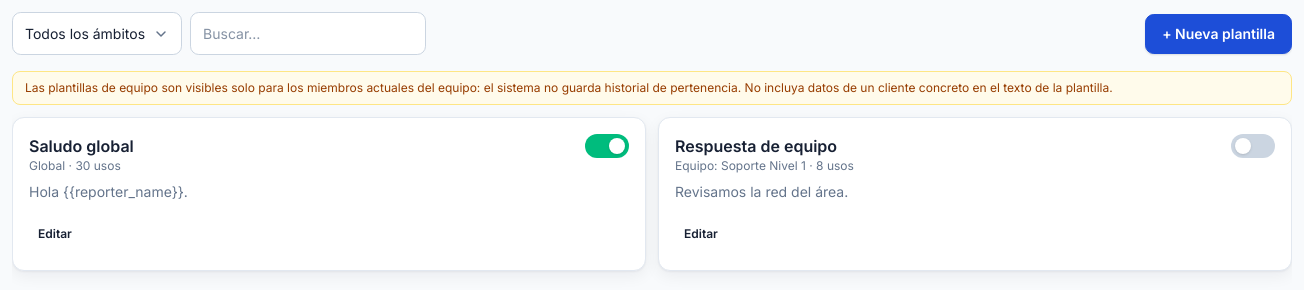
Test: TemplatesAdmin · listado y filtros › el filtro de ámbito vuelve a "Todos" y consulta sin scope
Expected: the text "Saludo global" is shown, [29,134,134,158]
Click the dropdown labelled "Todos los ámbitos" at (97, 34), box [12,12,182,55]
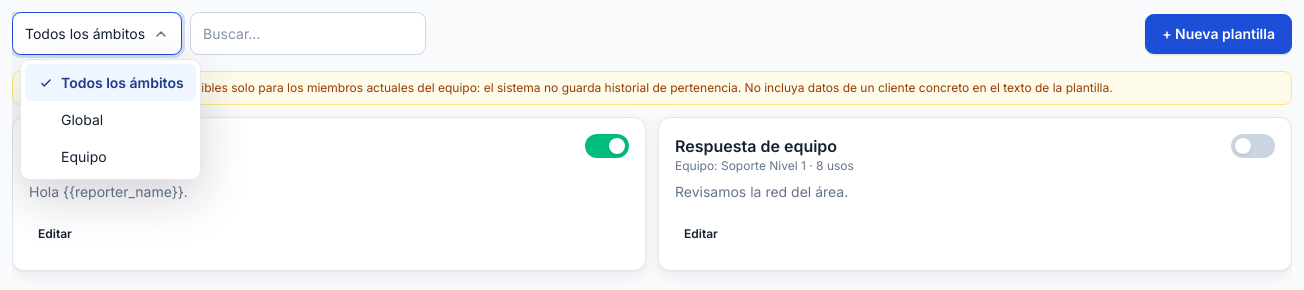
Click the option "Global" at (82, 120), box [61,111,103,128]
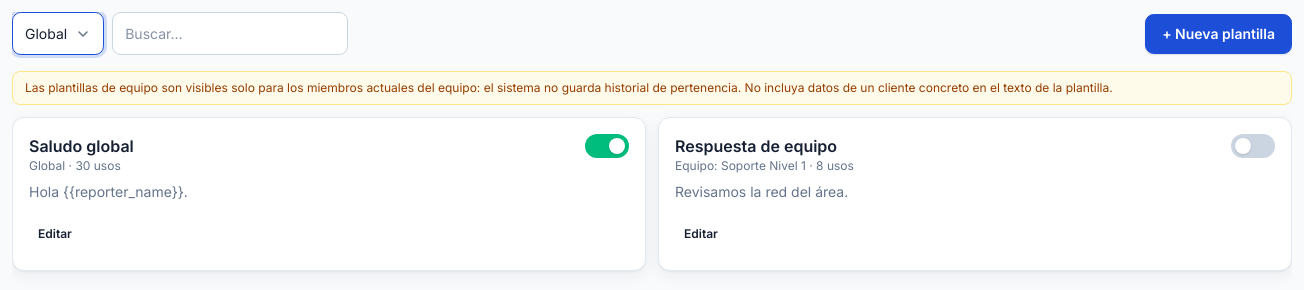
Click the dropdown named "Filtrar por ámbito" at (58, 34), box [12,12,104,55]
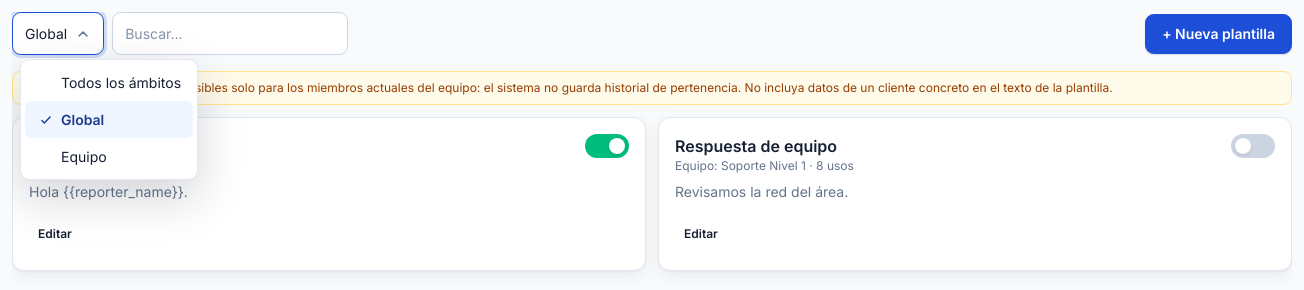
Click the option "Todos los ámbitos" at (121, 82), box [61,74,181,91]
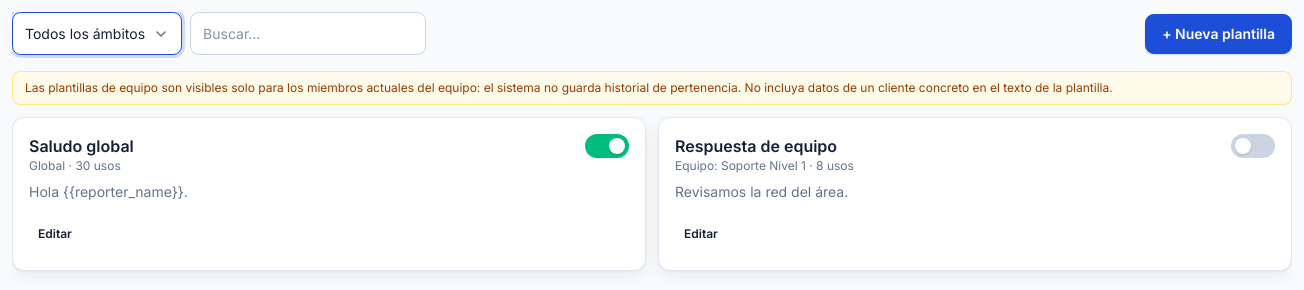
Result: the dropdown named "Filtrar por ámbito" reads "Todos los ámbitos" at [12,12,182,55]
